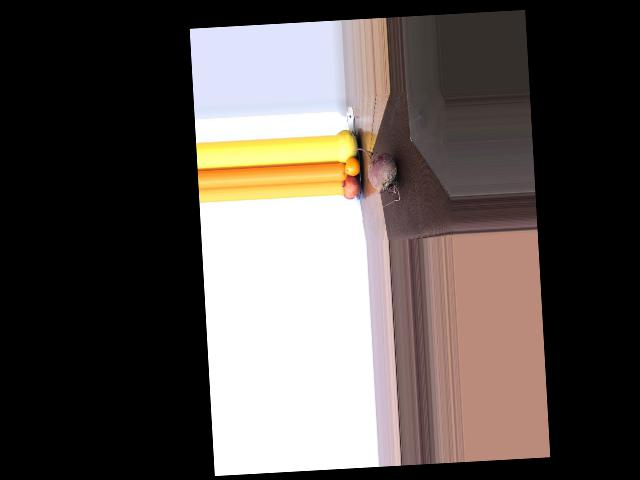beet: (353, 145, 400, 207)
